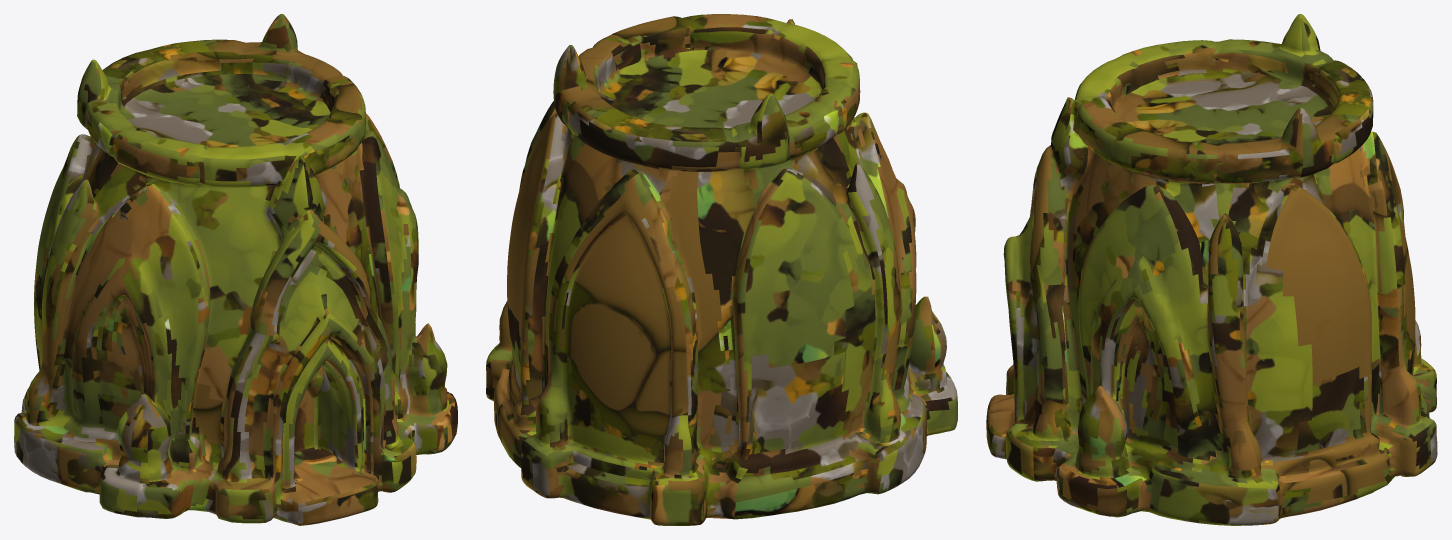
Rendered from nat-Base-Center-15600.fbx.
The picture shows the model from 3 angles, left to right: view 1: azimuth 30°, elevation 25°; view 2: azimuth 150°, elevation 25°; view 3: azimuth 270°, elevation 25°; orthographic projection. The views are drawn at different scales.
Parts seen in each view (by area): view 1: tripo_node_305e0022; view 2: tripo_node_305e0022; view 3: tripo_node_305e0022.
Part boxes in pixels (x1,y1,x2,y2): tripo_node_305e0022: [14, 14, 457, 525]; tripo_node_305e0022: [486, 14, 957, 525]; tripo_node_305e0022: [986, 14, 1437, 525].
Bounding box in the file's own units: 0.9806 × 0.9058 × 0.9772.
